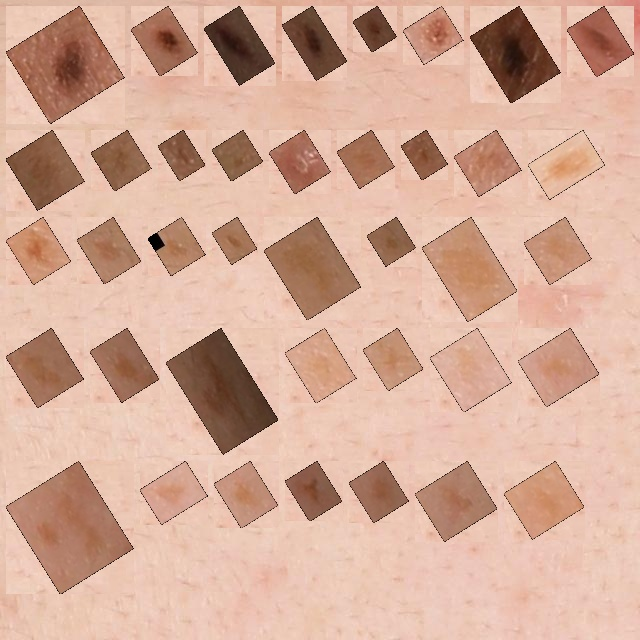melasma: (17, 472, 122, 583), (177, 339, 267, 443), (275, 228, 350, 309), (433, 228, 506, 310), (441, 339, 500, 401), (426, 472, 486, 530), (529, 339, 588, 396), (17, 141, 73, 199), (515, 472, 573, 528), (17, 339, 73, 396), (296, 339, 345, 392), (539, 141, 594, 188), (101, 339, 148, 391), (535, 228, 580, 273), (465, 141, 510, 185), (17, 228, 60, 273), (88, 228, 130, 273), (225, 472, 267, 517), (151, 472, 196, 513), (374, 339, 412, 379), (360, 472, 398, 512), (102, 141, 140, 180), (296, 472, 331, 510), (348, 141, 384, 177), (159, 228, 194, 264), (223, 141, 252, 170), (378, 228, 405, 255), (169, 141, 194, 170), (412, 141, 437, 169), (223, 228, 246, 253)
nevus: (17, 17, 113, 112), (481, 17, 549, 92), (215, 17, 264, 74), (293, 17, 336, 69), (578, 17, 623, 66), (142, 17, 186, 65), (414, 17, 452, 53), (364, 17, 386, 41)
pustule: (280, 141, 320, 183)
